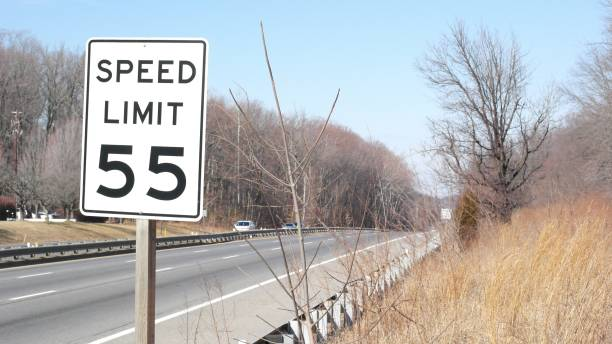SpeedLimitSign: (79, 35, 209, 222)
